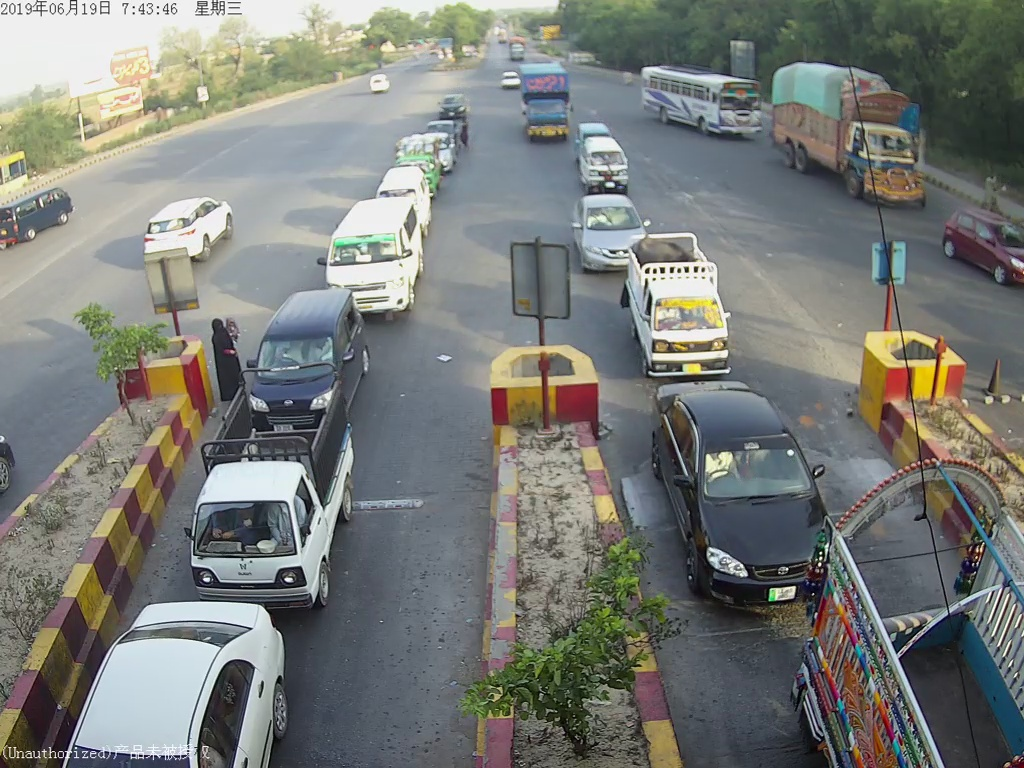Cat-1: (648, 383, 817, 598), (187, 403, 361, 602), (629, 241, 739, 373)
Cat-2: (333, 193, 426, 305)
